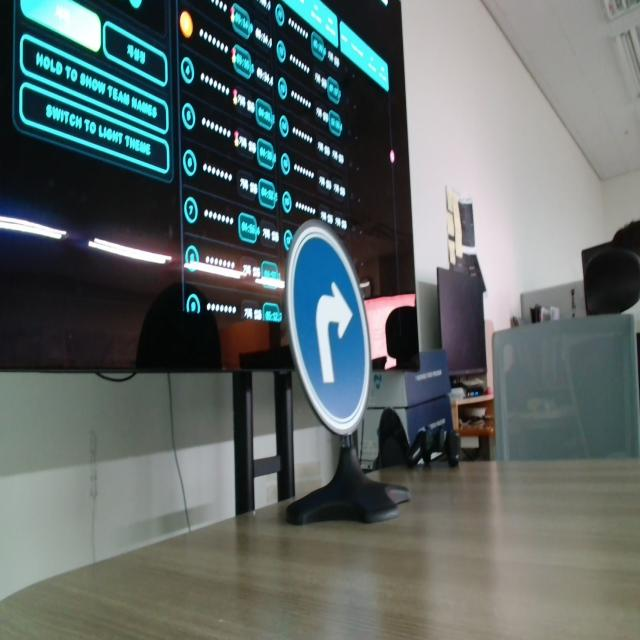right_dierection: (279, 213, 377, 435)
